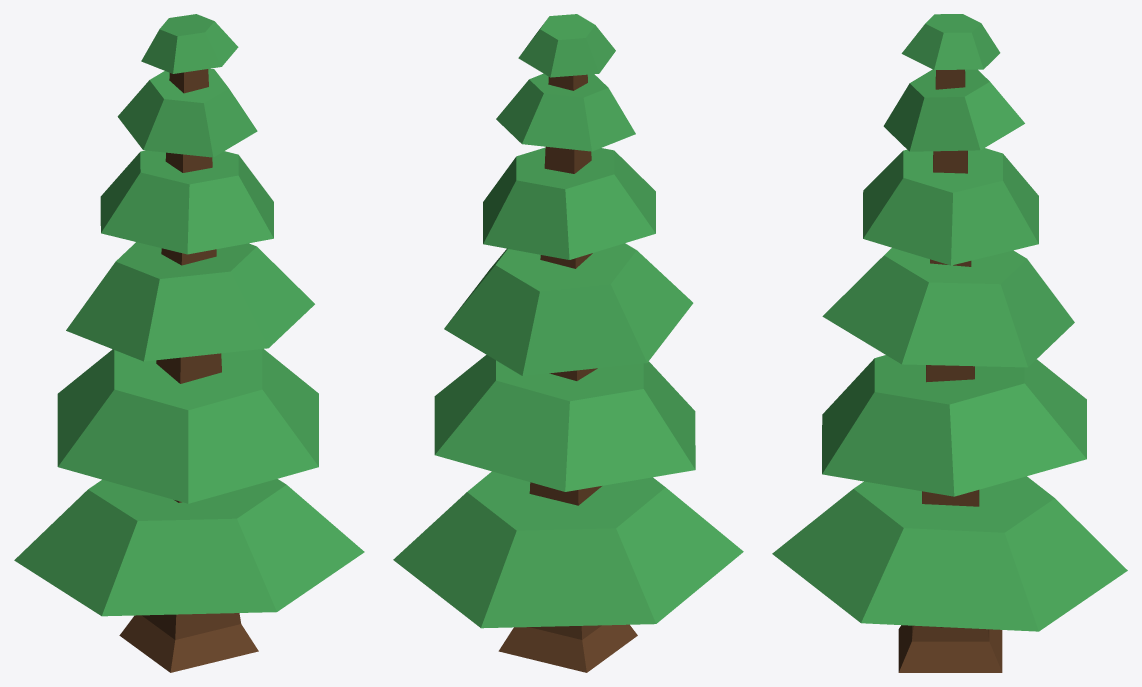
The model's file is pine-round.glb.
3 renders of one model, left to right at view 1: azimuth 30°, elevation 25°; view 2: azimuth 150°, elevation 25°; view 3: azimuth 270°, elevation 25°, orthographic.
Visible parts, largest first — view 1: tree_pineRoundB; view 2: tree_pineRoundB; view 3: tree_pineRoundB.
Part boxes in pixels (left/top/right/bottom): tree_pineRoundB: left=14, top=14, right=364, bottom=672; tree_pineRoundB: left=393, top=14, right=743, bottom=672; tree_pineRoundB: left=772, top=14, right=1127, bottom=672.
Size of the model in its own units: 0.5322 by 1.2 by 0.6132.
